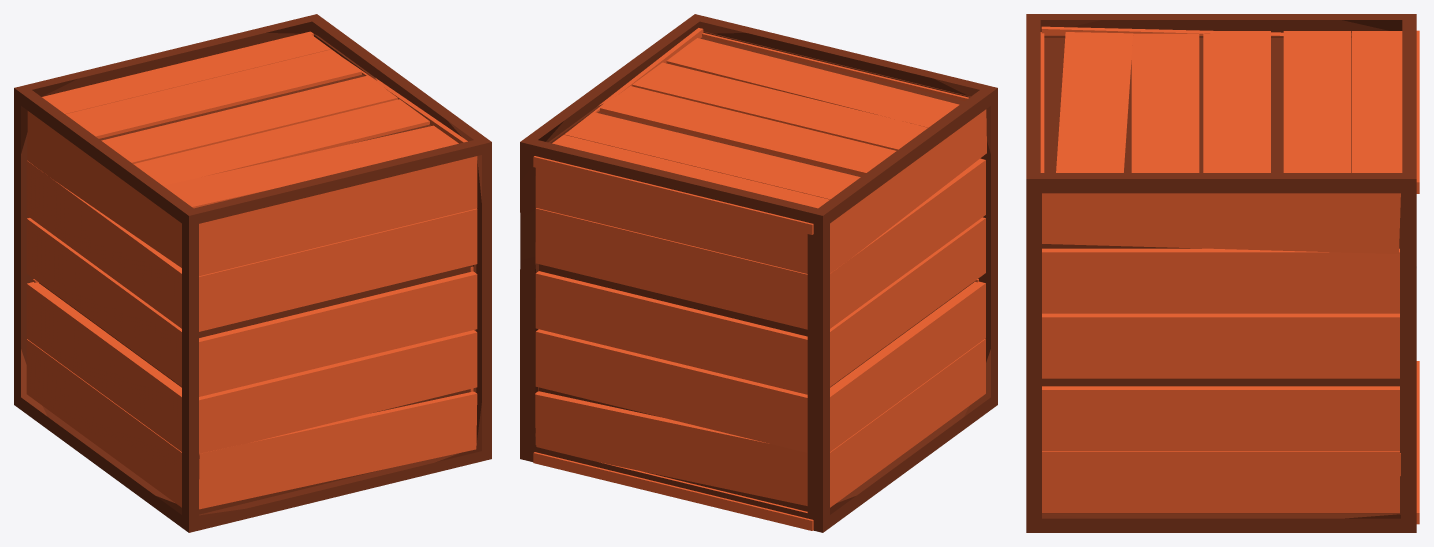
File: crate.glb
The picture shows the model from 3 angles, left to right: view 1: azimuth 30°, elevation 25°; view 2: azimuth 150°, elevation 25°; view 3: azimuth 270°, elevation 25°; orthographic projection. The views are drawn at different scales.
Visible parts, largest first — view 1: Cube.001; view 2: Cube.001; view 3: Cube.001.
Boxes of the visible parts, x1,y1,x2,y2 form: Cube.001: (14,14,491,532); Cube.001: (520,14,997,532); Cube.001: (1026,14,1419,532).
Bounding box in the file's own units: 1.55 × 1.56 × 1.56.
